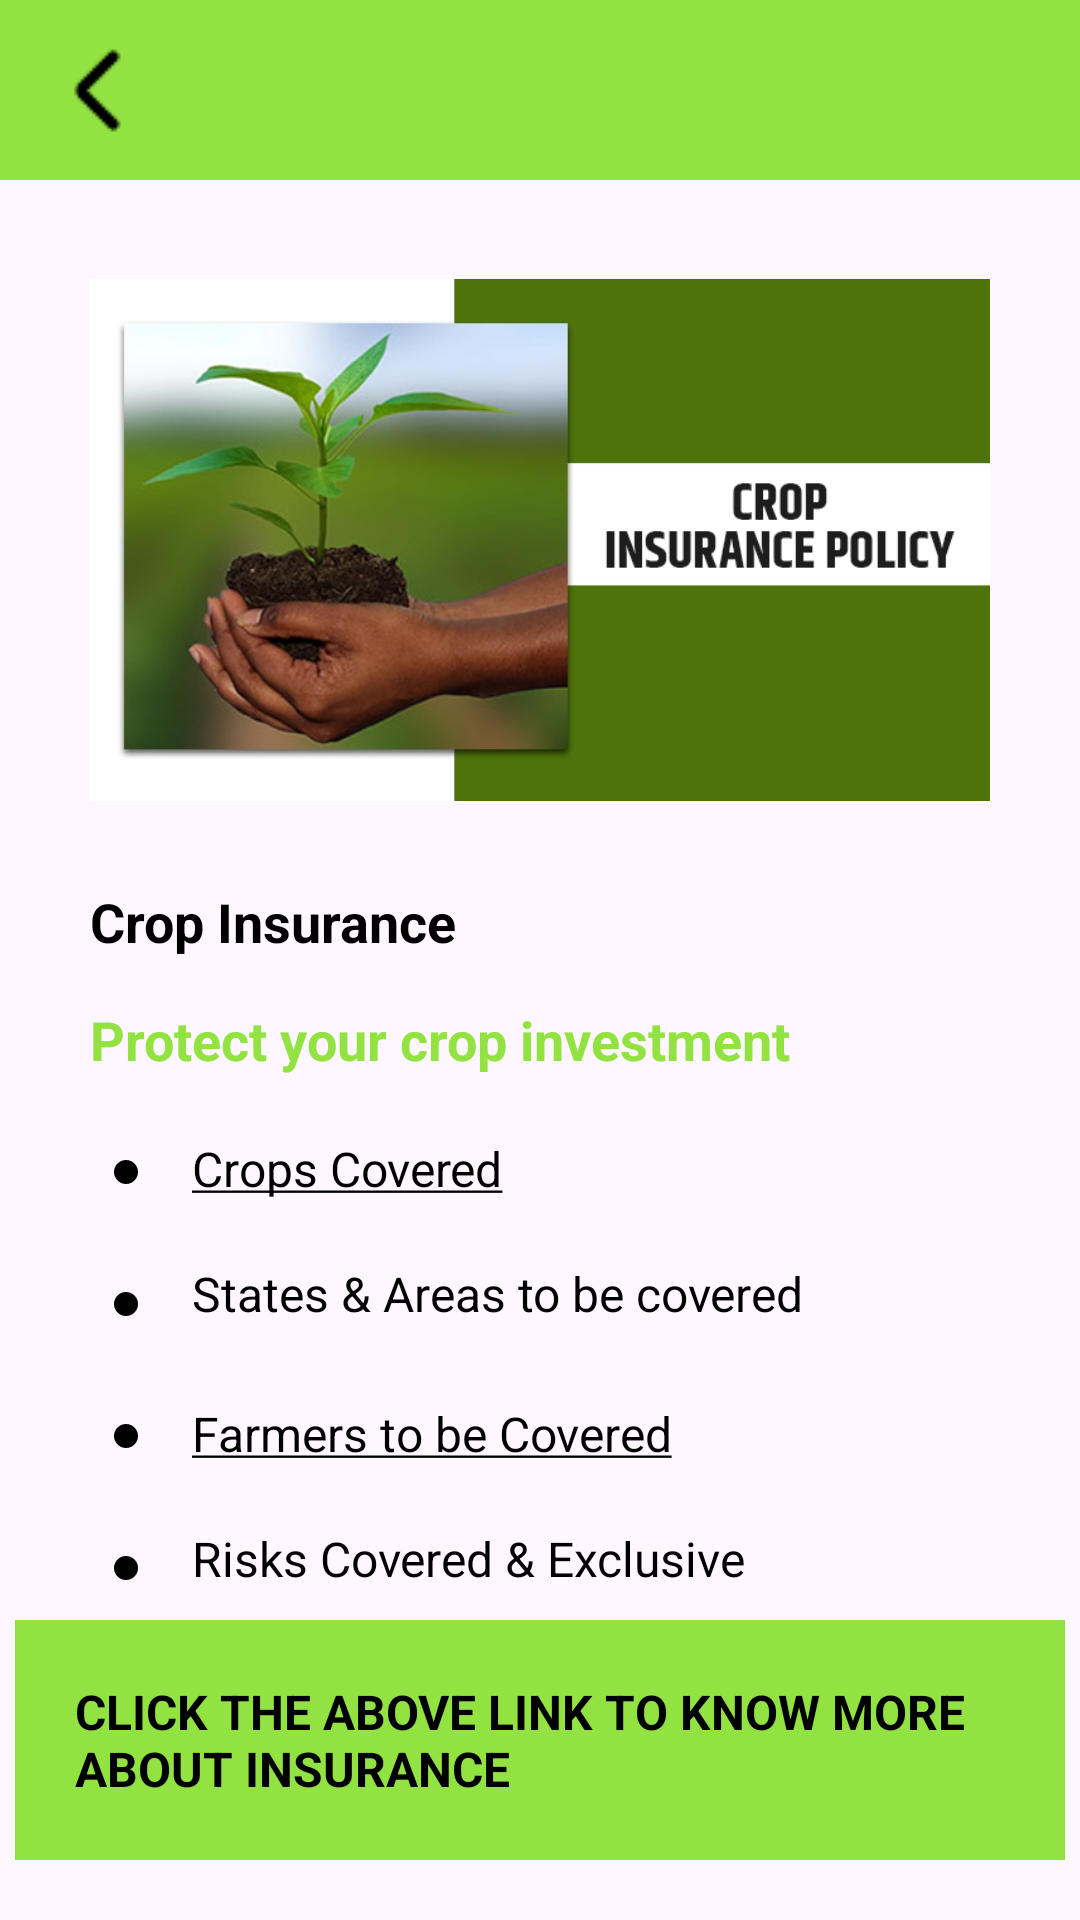

Locate icon controls on the screen. Image size 1080px×1920px, boxes as (x1, y1, x2, y2).
back arrow: (74, 49, 121, 132)
